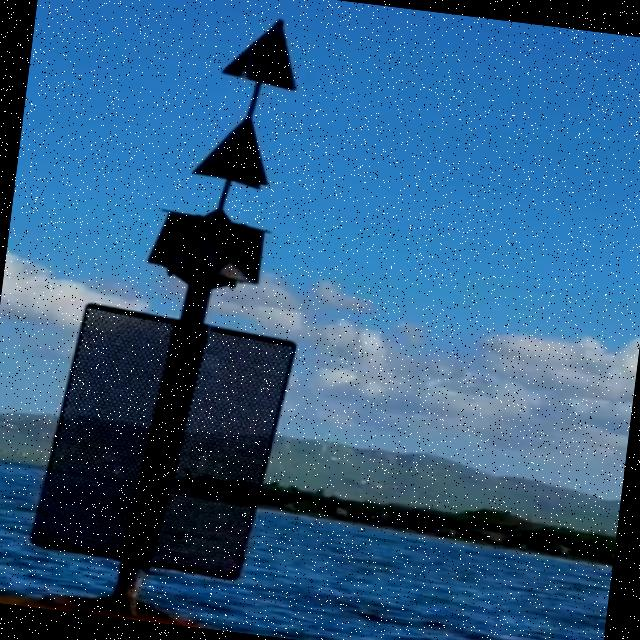marque: (1, 1, 374, 640)
